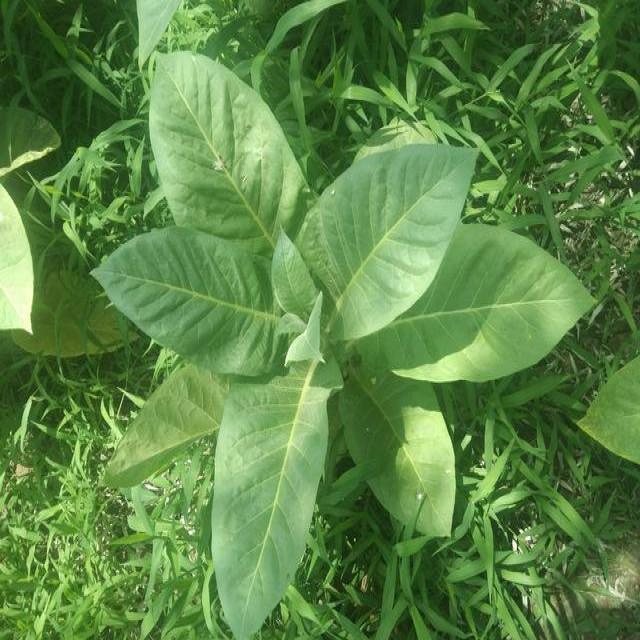crop: (142, 68, 574, 617), (0, 99, 126, 370), (572, 343, 640, 469)
